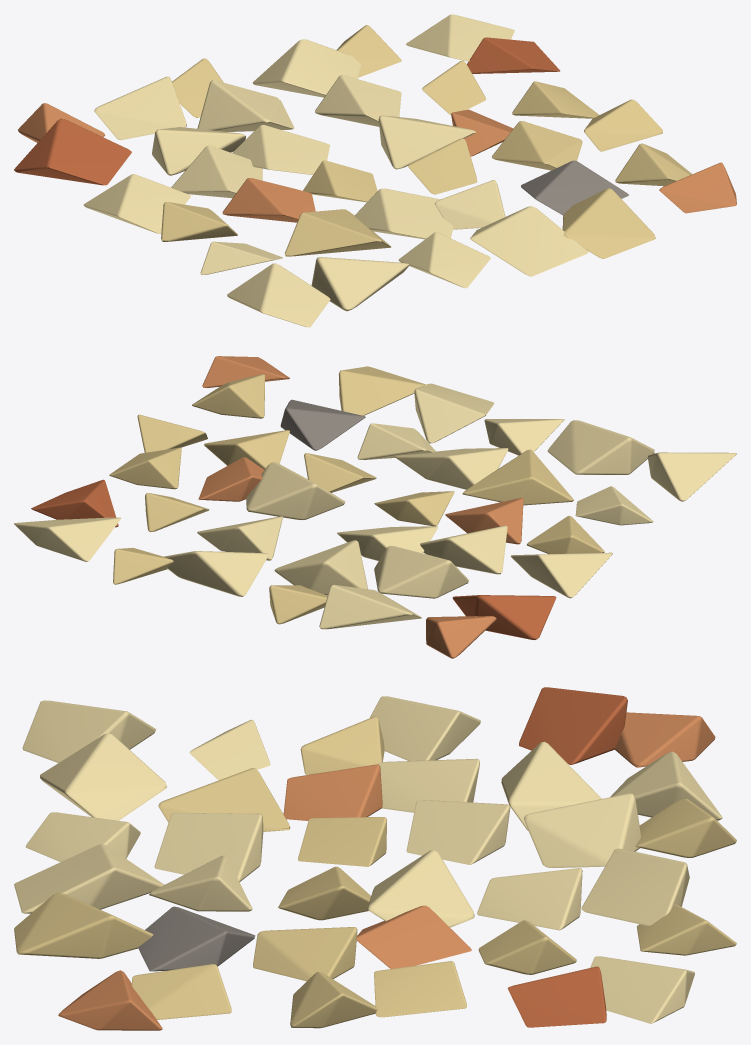
Rendered from minerai_sable_2.glb.
3 views of the same model, one above another, from view 1: azimuth 30°, elevation 25°; view 2: azimuth 150°, elevation 25°; view 3: azimuth 270°, elevation 25° (orthographic). The views are drawn at different scales.
Visible parts, largest first — view 1: sable_sable_clair.004, sable_sable.004, sable_gres_clair.004, sable_gres.004, sable_pierre_claire.004; view 2: sable_sable_clair.004, sable_sable.004, sable_gres_clair.004, sable_gres.004, sable_pierre_claire.004; view 3: sable_sable_clair.004, sable_sable.004, sable_gres_clair.004, sable_gres.004, sable_pierre_claire.004.
Boxes of the visible parts, x1,y1,x2,y2 form: sable_sable_clair.004: (83,14,588,327); sable_sable.004: (161,25,692,258); sable_gres_clair.004: (18,103,736,222); sable_gres.004: (14,37,560,185); sable_pierre_claire.004: (521,160,628,215); sable_sable_clair.004: (14,383,736,629); sable_sable.004: (109,366,604,624); sable_gres_clair.004: (198,356,523,658); sable_gres.004: (31,479,556,640); sable_pierre_claire.004: (280,399,365,450); sable_sable_clair.004: (14,696,722,1023); sable_sable.004: (14,716,736,1028); sable_gres_clair.004: (58,712,715,1030); sable_gres.004: (507,687,627,1027); sable_pierre_claire.004: (138,906,255,971).
Size of the model in its own units: 0.5047 by 0.0341 by 0.478.
